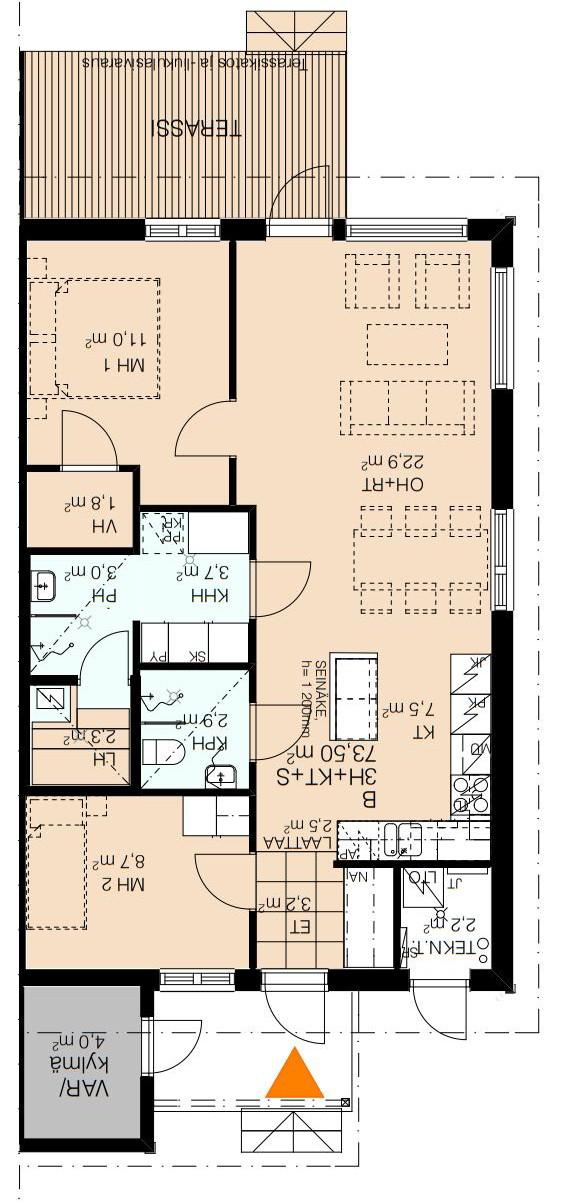bathroom: (141, 671, 248, 787)
door: (260, 965, 337, 1048), (255, 159, 337, 236), (242, 555, 320, 624), (242, 697, 315, 769), (55, 405, 123, 482), (188, 848, 267, 914), (172, 396, 247, 465), (136, 1013, 212, 1080), (411, 975, 474, 1043), (71, 624, 136, 682)
perimeter: (19, 215, 517, 1152)
window: (482, 502, 528, 620), (340, 209, 477, 247), (486, 259, 521, 401), (141, 207, 227, 249), (150, 966, 248, 990)
